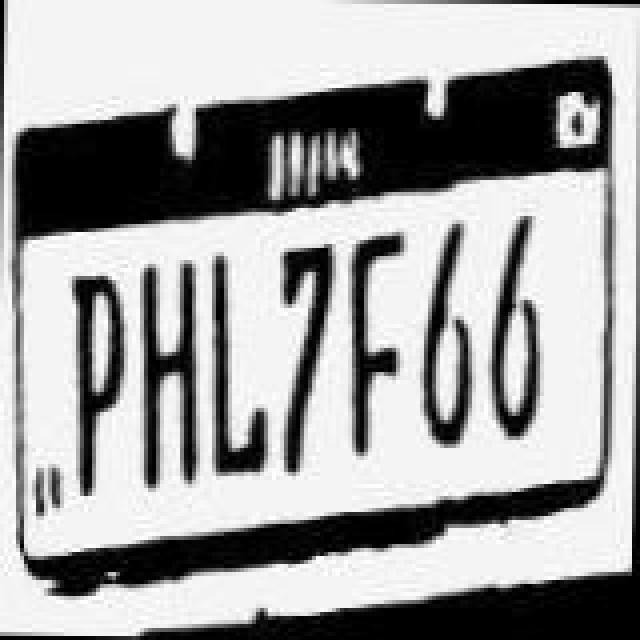6: (418, 224, 474, 452), (490, 216, 546, 440)
7: (280, 240, 340, 472)
F: (348, 232, 408, 460)
H: (138, 256, 202, 492)
L: (208, 252, 276, 480)
P: (64, 276, 128, 500)
